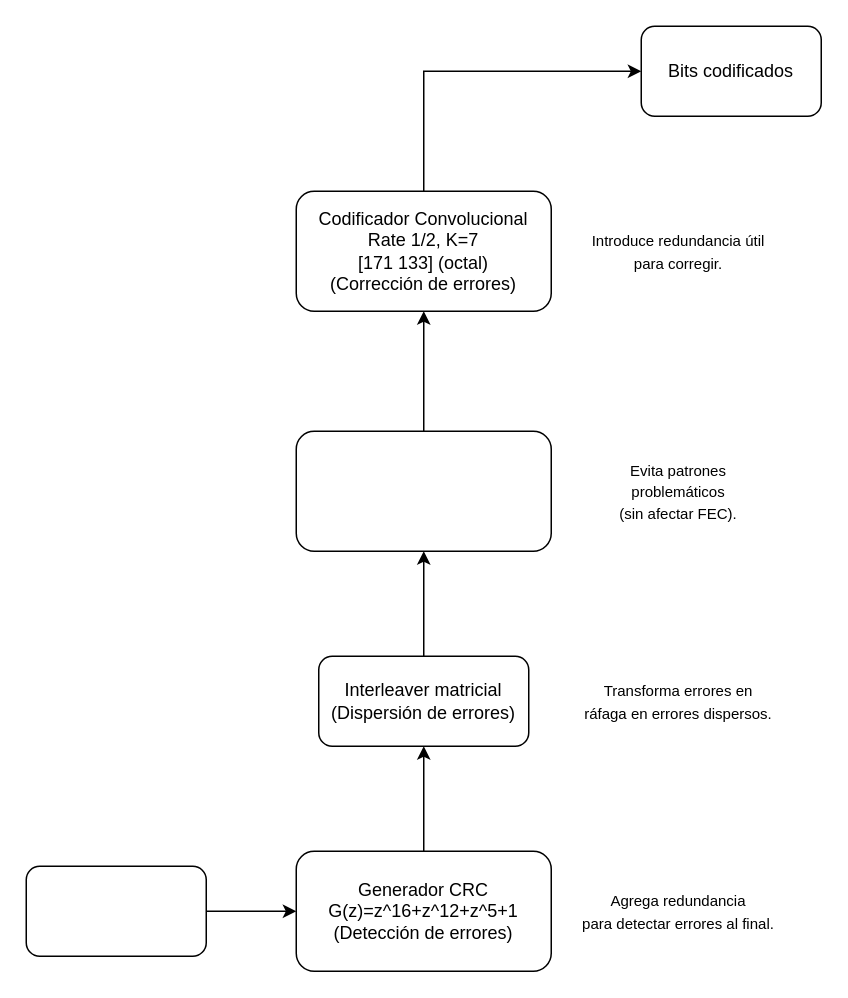
Image size: 848x998. Some labels were removed from this diagram. The shapes that lost their labels are listed below. From the top down, each one's centre as x and y in pixels, then its label:
the point at 423,490: Scrambler (LFSR) 1 + z^-3 + z^-7 (Aleatorización)
the point at 115,910: Bits de entrada
